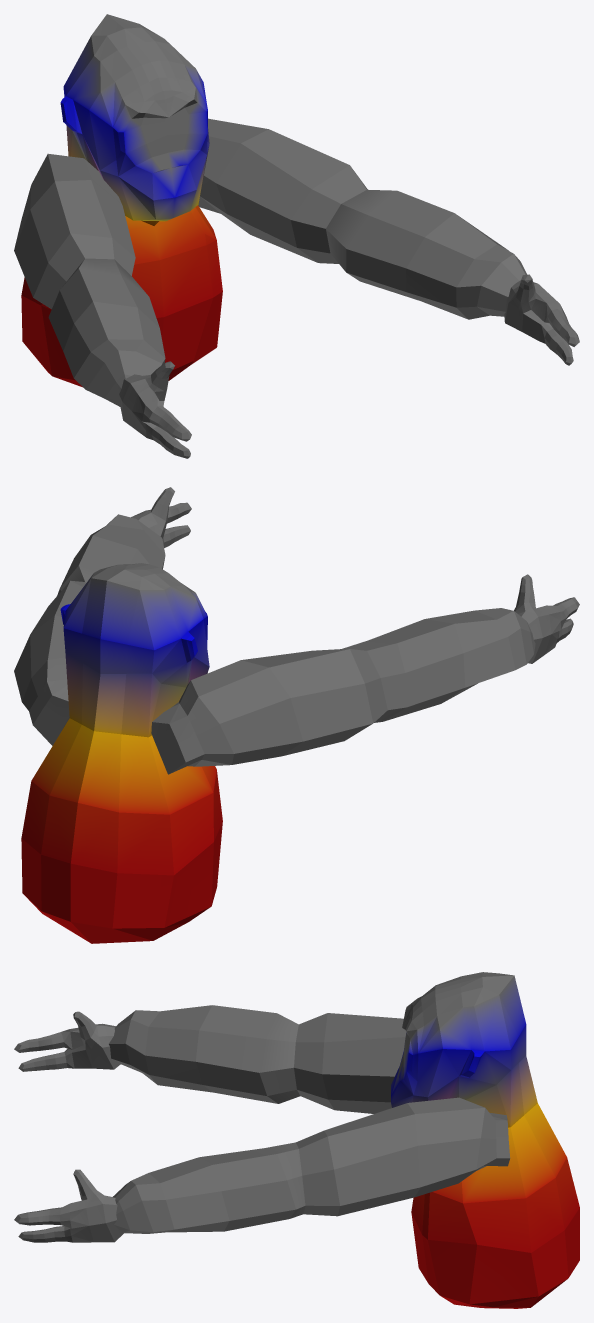
The model's file is gorilla_new (UnityEngine.GameObject)Exportgorilla_new.fbx.
3 renders of one model, top to bottom at view 1: azimuth 30°, elevation 25°; view 2: azimuth 150°, elevation 25°; view 3: azimuth 270°, elevation 25°, orthographic. The views are drawn at different scales.
Parts seen in each view (by area): view 1: gorilla_new; view 2: gorilla_new; view 3: gorilla_new.
Boxes of the visible parts, left/top/right/bottom form: gorilla_new: left=14, top=14, right=579, bottom=458; gorilla_new: left=14, top=487, right=579, bottom=943; gorilla_new: left=14, top=972, right=579, bottom=1308.
Size of the model in its own units: 0.9211 by 0.7089 by 1.13.
